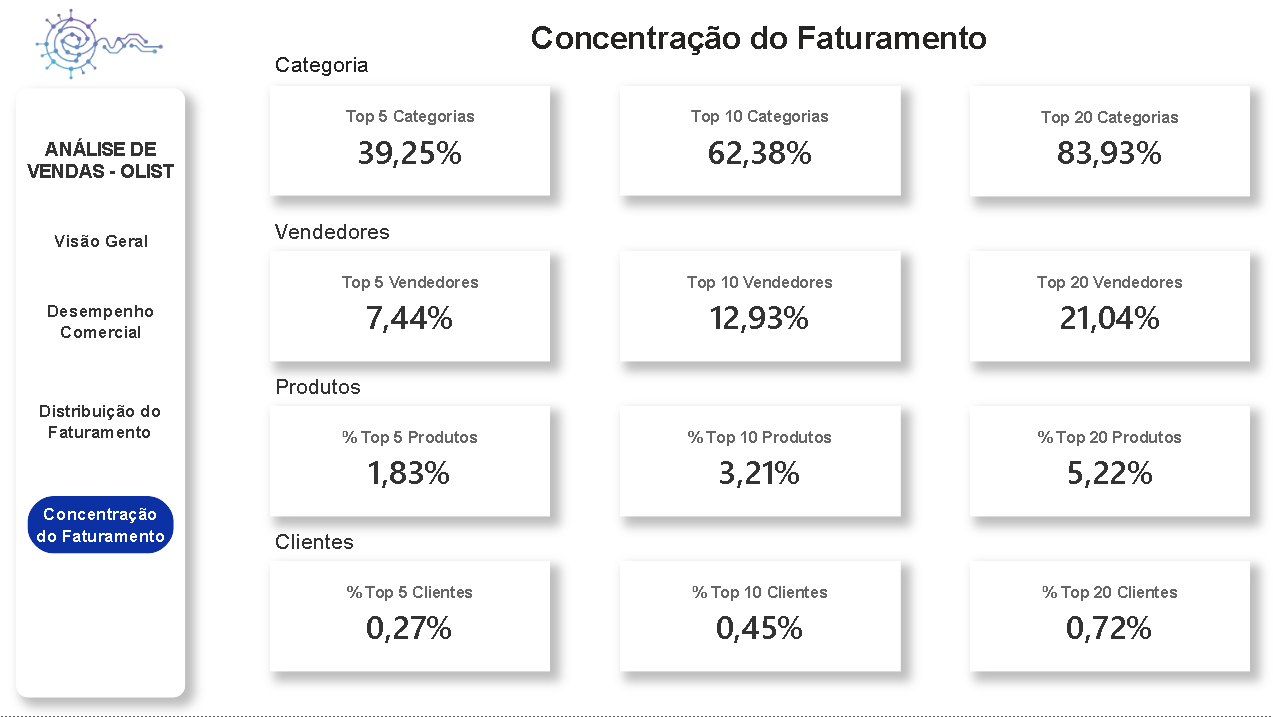

What the dashboard file says about the page in this screenshot:
{"tool":"powerbi","page":{"name":"Concentração do Faturamento","canvas":[1280,720],"ordinal":3},"visuals":[{"type":"shape","box":[16.2,92.5,168.8,608.8],"z":0},{"type":"actionButton","box":[27.5,230,147.5,35],"z":1000},{"type":"actionButton","box":[27.5,300,146.2,56.2],"z":2000},{"type":"actionButton","box":[27.5,500,146.2,57.5],"z":3000},{"type":"actionButton","box":[21.2,117.5,158.8,95],"z":4000},{"type":"image","box":[27.5,8.8,143.8,78.8],"z":5000},{"type":"textbox","box":[514.3,18.6,491.4,60],"z":6000},{"type":"actionButton","box":[26.2,400,147.5,56.2],"z":7000},{"type":"cardVisual","fields":{"Data":["Medidas.% Top 5 Categorias"]},"box":[270,90,280,109.3],"z":8000},{"type":"cardVisual","fields":{"Data":["Medidas.% Top 10 Categorias"]},"box":[620,90,280.6,109.3],"z":9000},{"type":"cardVisual","fields":{"Data":["Medidas.% Top 20 Categorias"]},"box":[970,90,280,110],"z":10000},{"type":"cardVisual","fields":{"Data":["Medidas.% Top 5 Vendedores"]},"box":[270,255,280,110],"z":11000},{"type":"cardVisual","fields":{"Data":["Medidas.% Top 10 Vendedores"]},"box":[620,255,280.6,110],"z":12000},{"type":"cardVisual","fields":{"Data":["Medidas.% Top 20 Vendedores"]},"box":[970,255,280,110],"z":13000},{"type":"cardVisual","fields":{"Data":["Medidas.% Top 5 Produtos"]},"box":[270,410,280,110],"z":14000},{"type":"cardVisual","fields":{"Data":["Medidas.% Top 10 Produtos"]},"box":[620,410,280.6,110],"z":15000},{"type":"cardVisual","fields":{"Data":["Medidas.% Top 20 Produtos"]},"box":[970,410,280,110],"z":16000},{"type":"cardVisual","fields":{"Data":["Medidas.% Top 5 Clientes"]},"box":[270,565,280,110],"z":17000},{"type":"cardVisual","fields":{"Data":["Medidas.% Top 10 Clientes"]},"box":[620,565,280.6,110],"z":18000},{"type":"cardVisual","fields":{"Data":["Medidas.% Top 20 Clientes"]},"box":[970,565,280,110],"z":19000},{"type":"textbox","box":[270,50,110,38],"z":20000},{"type":"textbox","box":[270,217.5,127.5,37.5],"z":21000},{"type":"textbox","box":[270,372.5,103.3,37.5],"z":22000},{"type":"textbox","box":[270,527.8,103.3,37.8],"z":23000}]}

Visuals, with their boxes in screenshot pixels (x1, y1, x2, y2), scaled from the page's 1280x720 canvas onto the 1273x717 screenshot:
shape: <box>16,92,184,698</box>
actionButton: <box>27,229,174,264</box>
actionButton: <box>27,299,173,355</box>
actionButton: <box>27,498,173,555</box>
actionButton: <box>21,117,179,212</box>
image: <box>27,9,170,87</box>
textbox: <box>511,19,1000,78</box>
actionButton: <box>26,398,173,454</box>
cardVisual - Medidas.% Top 5 Categorias: <box>269,90,547,198</box>
cardVisual - Medidas.% Top 10 Categorias: <box>617,90,896,198</box>
cardVisual - Medidas.% Top 20 Categorias: <box>965,90,1243,199</box>
cardVisual - Medidas.% Top 5 Vendedores: <box>269,254,547,363</box>
cardVisual - Medidas.% Top 10 Vendedores: <box>617,254,896,363</box>
cardVisual - Medidas.% Top 20 Vendedores: <box>965,254,1243,363</box>
cardVisual - Medidas.% Top 5 Produtos: <box>269,408,547,518</box>
cardVisual - Medidas.% Top 10 Produtos: <box>617,408,896,518</box>
cardVisual - Medidas.% Top 20 Produtos: <box>965,408,1243,518</box>
cardVisual - Medidas.% Top 5 Clientes: <box>269,563,547,672</box>
cardVisual - Medidas.% Top 10 Clientes: <box>617,563,896,672</box>
cardVisual - Medidas.% Top 20 Clientes: <box>965,563,1243,672</box>
textbox: <box>269,50,378,88</box>
textbox: <box>269,217,395,254</box>
textbox: <box>269,371,371,408</box>
textbox: <box>269,526,371,563</box>
